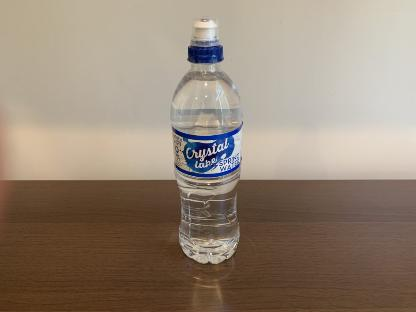Plastic Bottle: (170, 17, 242, 264)
